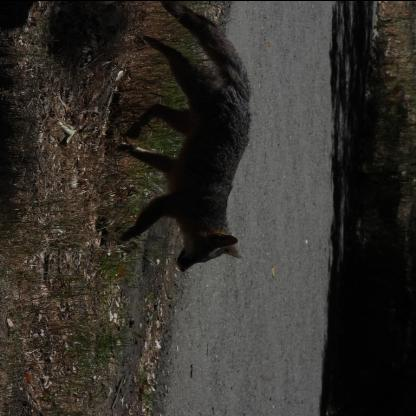zorro: (99, 1, 258, 271)
